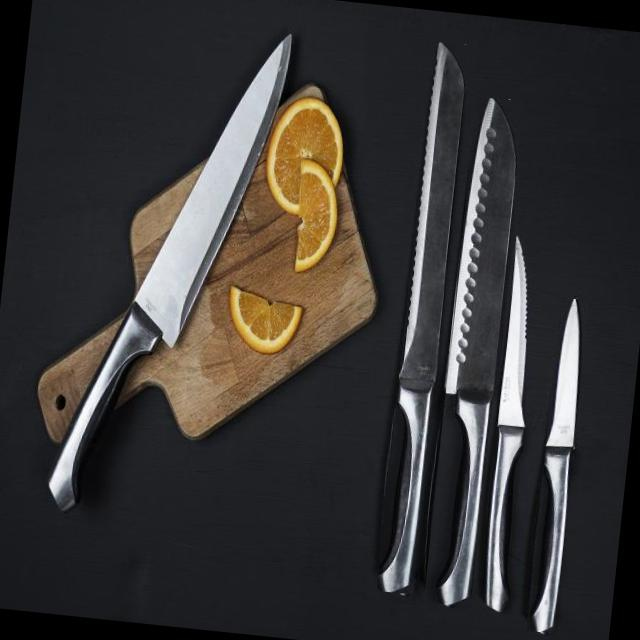Knife: (48, 35, 290, 510), (380, 42, 464, 591), (440, 98, 515, 604), (485, 238, 527, 610), (535, 299, 580, 631)
